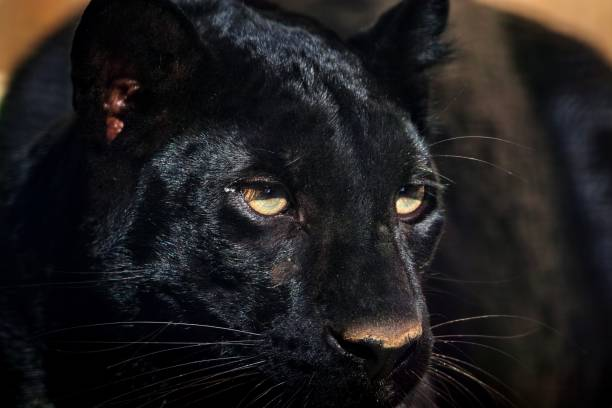panther: (56, 7, 523, 408)
